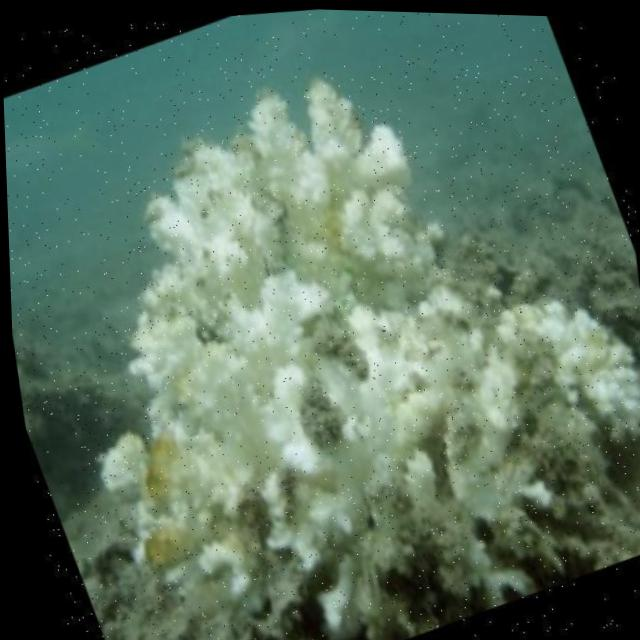Bleached Coral: (24, 43, 640, 640)
